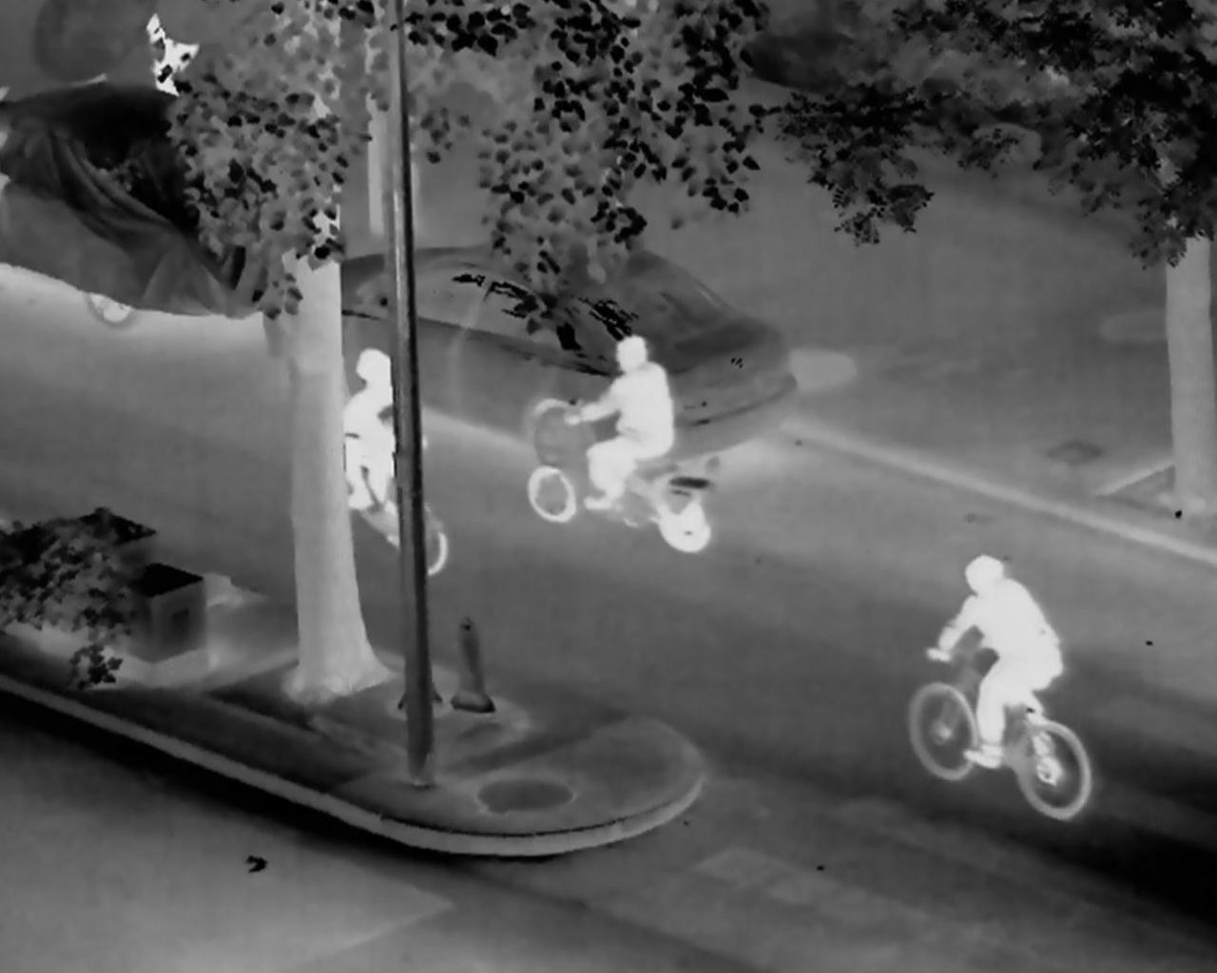person: (929, 557, 1066, 769), (565, 334, 673, 510), (338, 349, 409, 515)
